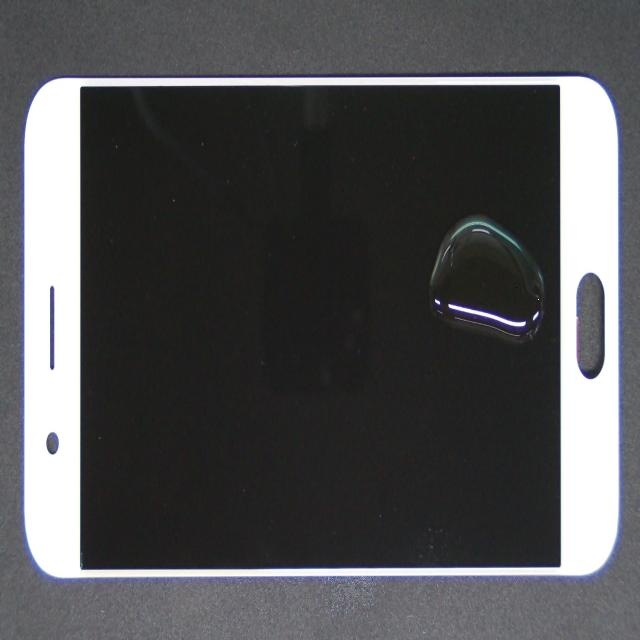oil: (208, 121, 640, 428)
